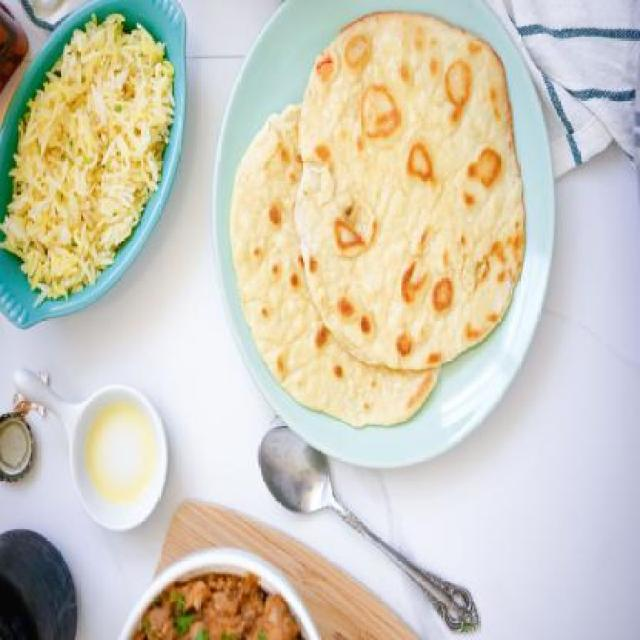chapati: (296, 11, 526, 369), (231, 103, 440, 426)
